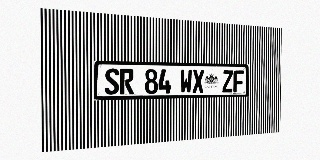4: (158, 69, 171, 94)
8: (145, 69, 158, 94)
F: (233, 70, 244, 92)
R: (120, 68, 134, 94)
S: (105, 68, 119, 95)
W: (180, 69, 192, 93)
X: (192, 70, 204, 93)
Z: (222, 70, 233, 92)
